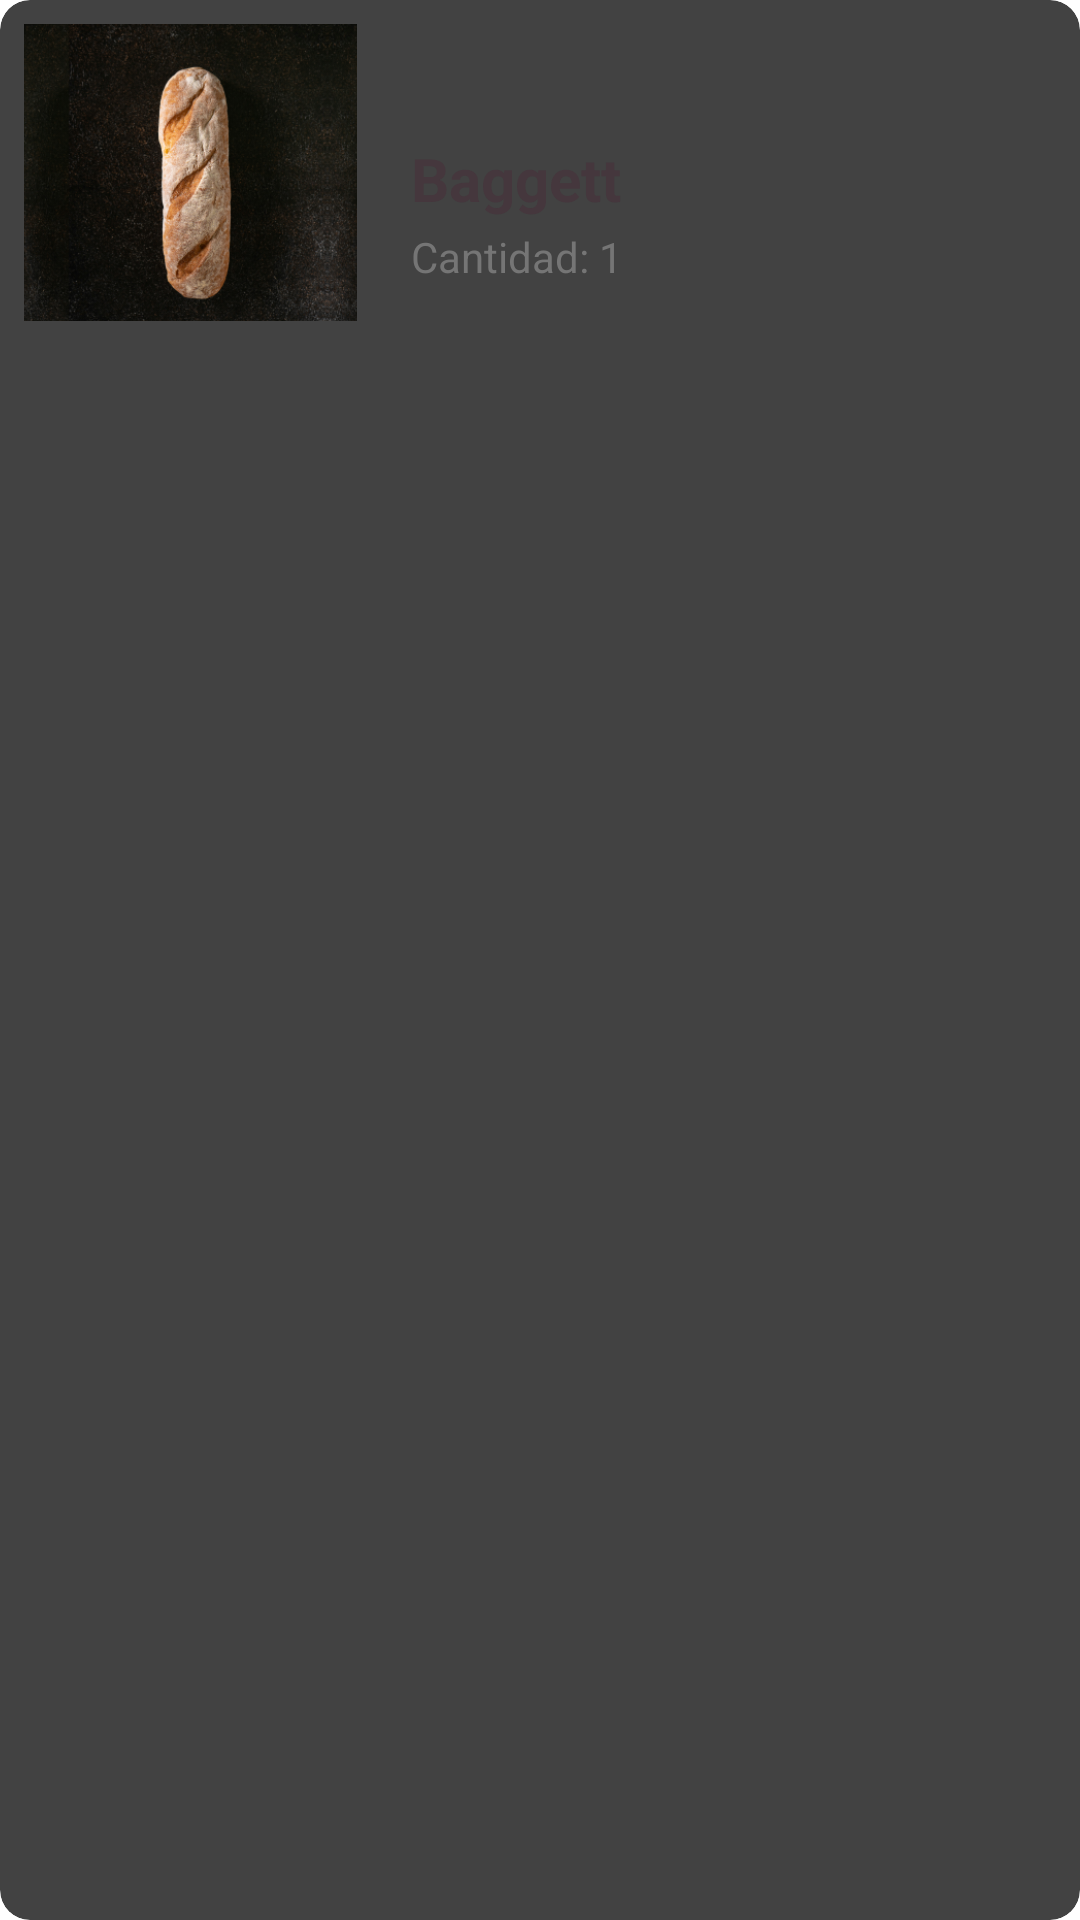

Icon click points for this 1080×1920 phone screenshot, format (x=x, y=y):
baggeeprod: (x=190, y=172)
